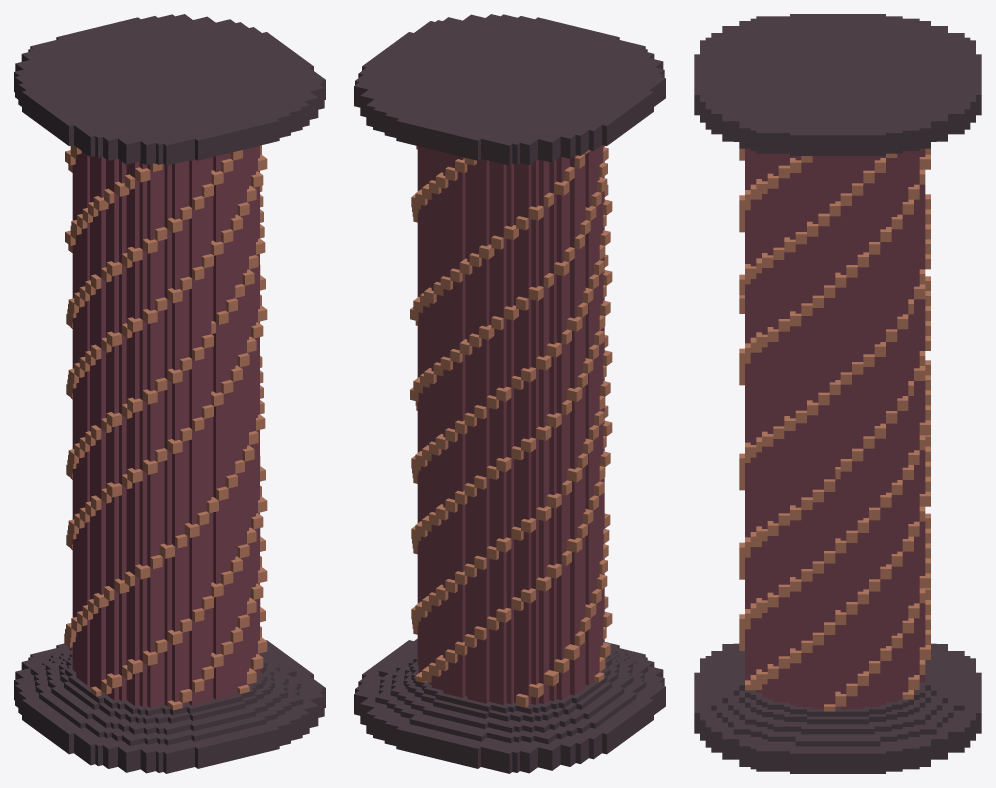
Rendered from ColumnaRoja-0-columna.obj.
3 views of the same model, side by side, from view 1: azimuth 30°, elevation 25°; view 2: azimuth 150°, elevation 25°; view 3: azimuth 270°, elevation 25° (orthographic).
Visible parts, largest first — view 1: columna; view 2: columna; view 3: columna.
Part boxes in pixels (left/top/right/bottom): columna: left=14, top=14, right=325, bottom=773; columna: left=354, top=14, right=665, bottom=773; columna: left=694, top=14, right=981, bottom=773.
Bounding box in the file's own units: 5.1 × 12.5 × 5.1.
Materials: 1 (1 with a texture image).
